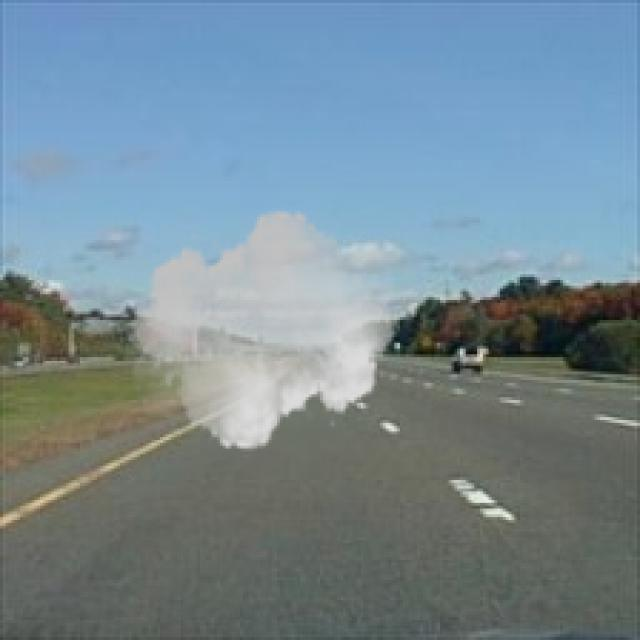smoke: (126, 200, 400, 460)
